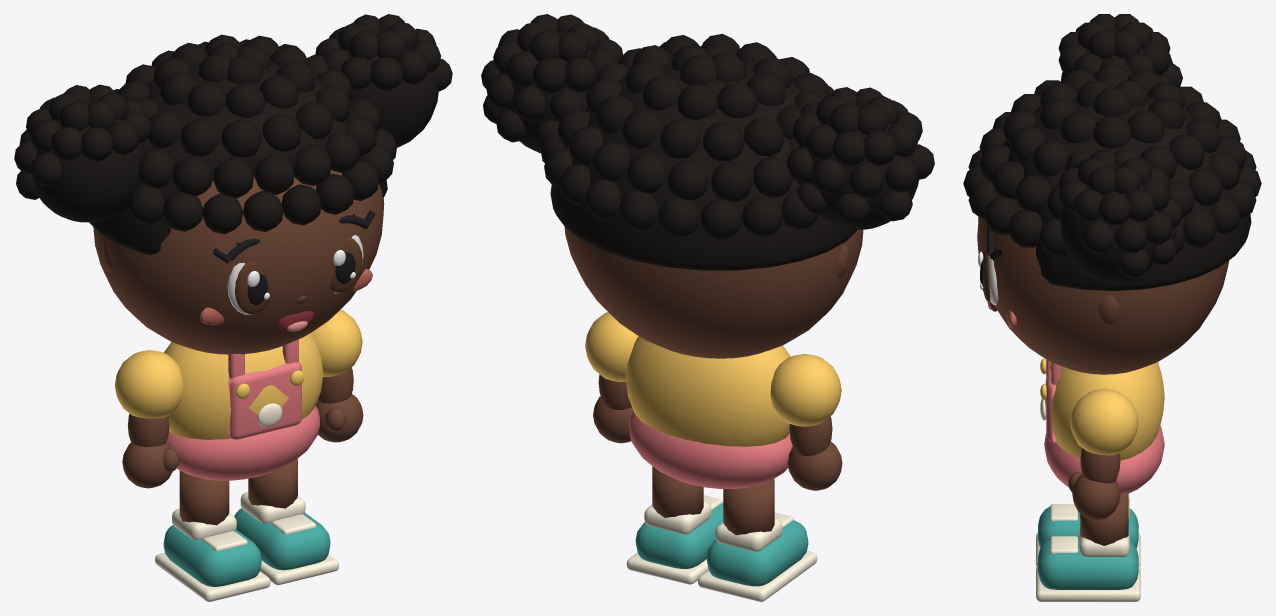
Rendered from chibi-toddler.glb.
3 views of the same model, side by side, from view 1: azimuth 30°, elevation 25°; view 2: azimuth 150°, elevation 25°; view 3: azimuth 270°, elevation 25° (orthographic). The views are drawn at different scales.
Parts seen in each view (by area): view 1: head.001-textured black hair, head.001-deep brown skin, torso.001-coral overalls, torso.001-amber tee, arm-left.001-amber tee, leg-left.001-teal sneakers, leg-right.001-teal sneakers, leg-left.001-cream accents, arm-left.001-deep brown skin, leg-right.001-cream accents, arm-right.001-deep brown skin, arm-right.001-amber tee (+5 smaller); view 2: head.001-textured black hair, head.001-deep brown skin, torso.001-amber tee, torso.001-coral overalls, arm-left.001-amber tee, leg-left.001-teal sneakers, leg-left.001-cream accents, arm-left.001-deep brown skin, leg-right.001-teal sneakers, arm-right.001-amber tee, leg-right.001-cream accents, leg-left.001-deep brown skin (+2 smaller); view 3: head.001-textured black hair, head.001-deep brown skin, torso.001-amber tee, leg-right.001-teal sneakers, arm-right.001-amber tee, torso.001-coral overalls, leg-right.001-cream accents, arm-right.001-deep brown skin, leg-right.001-deep brown skin, leg-left.001-teal sneakers, leg-left.001-cream accents.
Boxes of the visible parts, x1,y1,x2,y2 form: head.001-textured black hair: (14,14,452,254); head.001-deep brown skin: (93,170,384,354); torso.001-coral overalls: (166,339,319,480); torso.001-amber tee: (164,333,323,439); arm-left.001-amber tee: (114,350,183,418); leg-left.001-teal sneakers: (163,525,261,586); leg-right.001-teal sneakers: (234,508,330,570); leg-left.001-cream accents: (155,508,270,601); arm-left.001-deep brown skin: (122,413,179,488); leg-right.001-cream accents: (240,492,338,585); arm-right.001-deep brown skin: (315,367,363,442); arm-right.001-amber tee: (311,309,362,376); head.001-textured black hair: (481,14,934,270); head.001-deep brown skin: (564,227,863,358); torso.001-amber tee: (625,336,790,446); torso.001-coral overalls: (629,412,792,489); arm-left.001-amber tee: (770,354,841,426); leg-left.001-teal sneakers: (707,520,808,586); leg-left.001-cream accents: (698,512,817,601); arm-left.001-deep brown skin: (787,416,842,490); leg-right.001-teal sneakers: (635,503,723,568); arm-right.001-amber tee: (585,312,638,381); leg-right.001-cream accents: (626,495,722,584); leg-left.001-deep brown skin: (723,479,774,546); head.001-textured black hair: (963,14,1261,291); head.001-deep brown skin: (977,199,1229,374); torso.001-amber tee: (1044,362,1164,460); leg-right.001-teal sneakers: (1038,537,1138,589); arm-right.001-amber tee: (1070,388,1138,455); torso.001-coral overalls: (1044,359,1164,495); leg-right.001-cream accents: (1036,529,1140,601); arm-right.001-deep brown skin: (1068,448,1120,520); leg-right.001-deep brown skin: (1080,493,1128,556); leg-left.001-teal sneakers: (1038,506,1138,548); leg-left.001-cream accents: (1036,497,1140,566).
Size of the model in its own units: 2.31 by 2.69 by 1.48.
